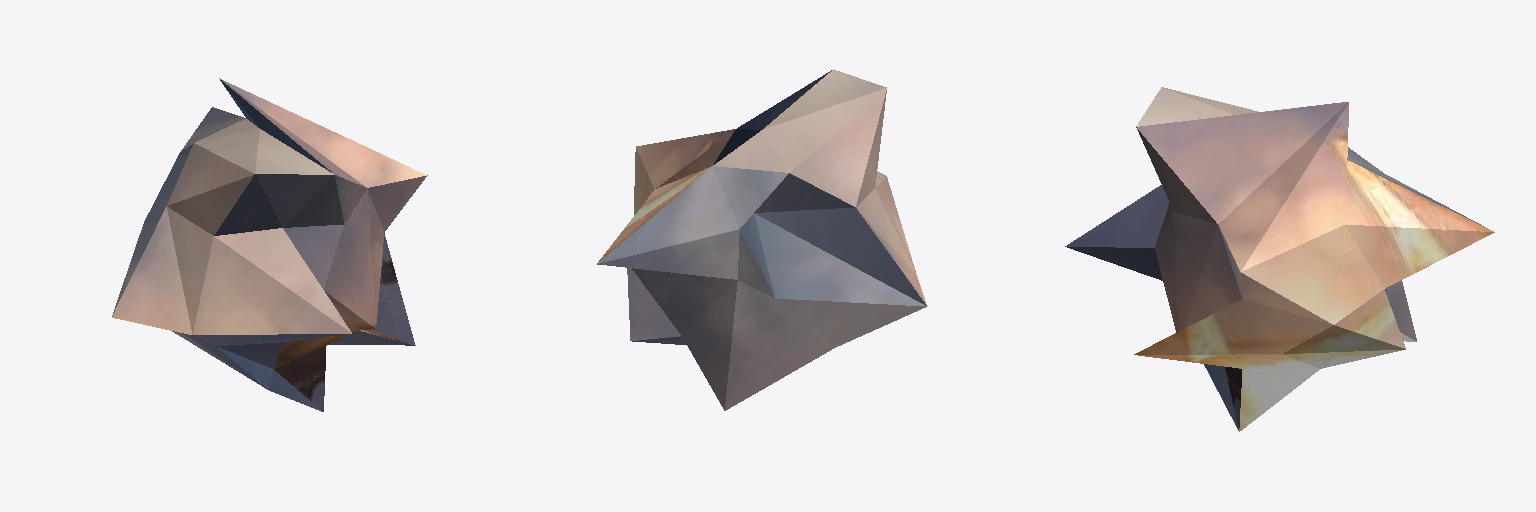
3 views of the same model, side by side, from view 1: azimuth 30°, elevation 25°; view 2: azimuth 150°, elevation 25°; view 3: azimuth 270°, elevation 25° (orthographic).
Parts seen in each view (by area): view 1: Icosphere; view 2: Icosphere; view 3: Icosphere.
Part boxes in pixels (x1,y1,x2,y2): Icosphere: (112,78,427,411); Icosphere: (597,69,927,410); Icosphere: (1065,87,1494,431).
Bounding box in the file's own units: 2.76 × 2.66 × 3.39.
Materials: 1 (1 with a texture image).